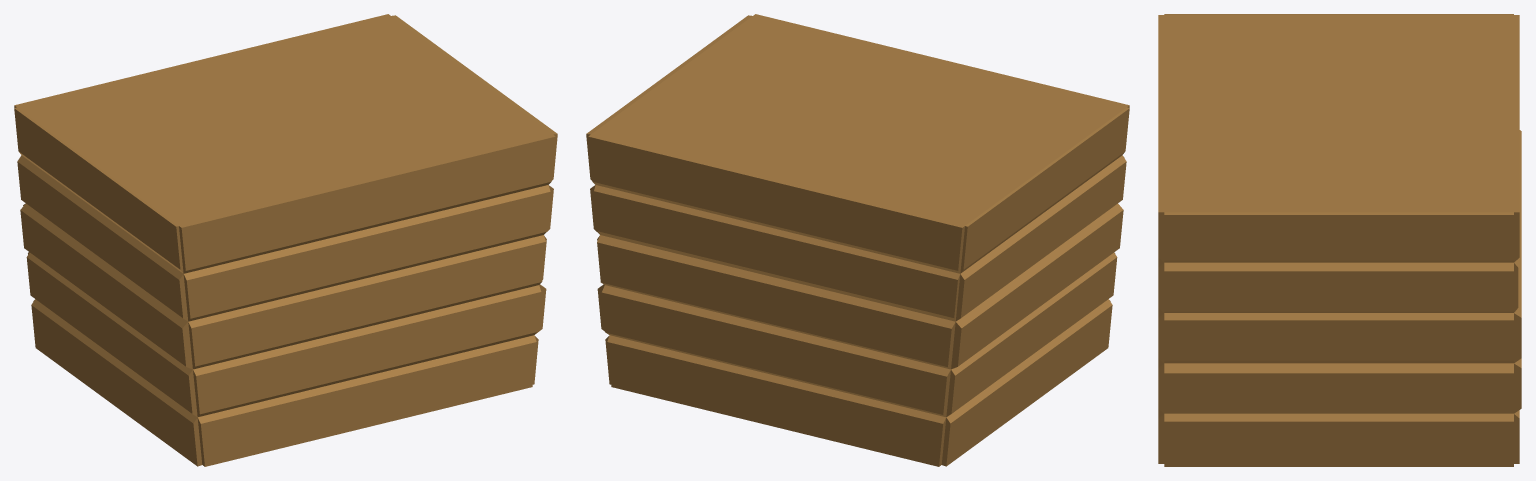
Rendered from house_02.FBX.
3 renders of one model, left to right at view 1: azimuth 30°, elevation 25°; view 2: azimuth 150°, elevation 25°; view 3: azimuth 270°, elevation 25°, orthographic. The views are drawn at different scales.
Parts seen in each view (by area): view 1: Box003; view 2: Box003; view 3: Box003.
Part boxes in pixels (box(x1,y1,x2,y2)): Box003: box(14, 14, 557, 466); Box003: box(586, 14, 1129, 466); Box003: box(1158, 14, 1521, 466).
Bounding box in the file's own units: 85.71 × 52.65 × 65.49.
Materials: 1 (1 with a texture image).
